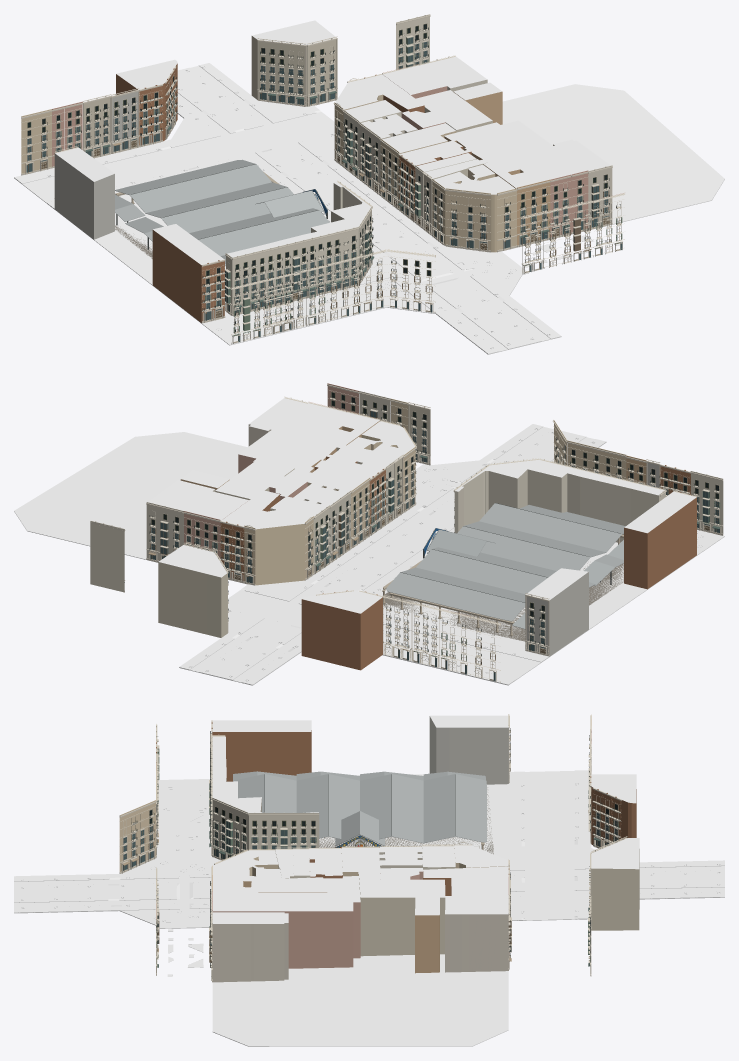
3 views of the same model, one above another, from view 1: azimuth 30°, elevation 25°; view 2: azimuth 150°, elevation 25°; view 3: azimuth 270°, elevation 25° (orthographic).
Visible parts, largest first — view 1: BCN_MB3_terreno, BCN_C02_viario_BCN-PG-01, BCN_C02_viario_BCN-PG-02, BCN_C06_viario_BCN-PG-02, BCNgen_L-MA3-001_fachada_01, BCN_C05_viario_BCN-PG-01, BCNgen_L-MA3-003_envolvente, MB4nuevo_L-MB4-001_-138.25_80.48, H10_Nave_4_faldon_1, BCNgen_L-MA3-002_envolvente, BCNgen_L-MB3-005_cubierta, H10_Nave_2_faldon_1 (+62 smaller); view 2: BCN_MB3_terreno, BCN_C02_viario_BCN-PG-02, BCNgen_L-MA3-001_envolvente, BCN_C06_viario_BCN-PG-02, BCN_C02_viario_BCN-PG-01, BCNgen_L-MA4-001_envolvente, BCNgen_L-MB4-001_envolvente, BCNgen_L-MA3-002_envolvente, H10_Nave_4_faldon_2, H10_Nave_1_faldon_2, BCNgen_L-MB3-019_envolvente, BCNgen_L-MB3-005_cubierta (+54 smaller); view 3: BCN_MB3_terreno, BCN_C06_viario_BCN-PG-02, BCN_C02_viario_BCN-PG-01, BCN_C05_viario_BCN-PG-01, BCN_C02_viario_BCN-PG-02, BCNgen_L-MB3-004_envolvente, BCNgen_L-MB3-005_envolvente, BCNgen_L-MA3-003_envolvente, BCNgen_L-MB3-020_envolvente, BCNgen_L-MA3-002_envolvente, BCNgen_L-MB3-014_envolvente, BCNgen_L-MB4-001_envolvente (+36 smaller).
Boxes of the visible parts, <box> form: BCN_MB3_terreno: <box>493,84,724,252</box>; BCN_C02_viario_BCN-PG-01: <box>324,199,561,354</box>; BCN_C02_viario_BCN-PG-02: <box>171,63,384,214</box>; BCN_C06_viario_BCN-PG-02: <box>14,101,334,208</box>; BCNgen_L-MA3-001_fachada_01: <box>232,227,358,315</box>; BCN_C05_viario_BCN-PG-01: <box>202,246,528,344</box>; BCNgen_L-MA3-003_envolvente: <box>55,153,114,239</box>; MB4nuevo_L-MB4-001_-138.25_80.48: <box>257,38,306,106</box>; H10_Nave_4_faldon_1: <box>130,164,271,213</box>; BCNgen_L-MA3-002_envolvente: <box>152,230,201,322</box>; BCNgen_L-MB3-005_cubierta: <box>478,120,586,179</box>; H10_Nave_2_faldon_1: <box>198,210,329,256</box>; BCN_MB3_terreno: <box>14,432,247,584</box>; BCN_C02_viario_BCN-PG-02: <box>179,545,420,684</box>; BCNgen_L-MA3-001_envolvente: <box>454,469,659,542</box>; BCN_C06_viario_BCN-PG-02: <box>228,584,549,684</box>; BCN_C02_viario_BCN-PG-01: <box>357,424,606,560</box>; BCNgen_L-MA4-001_envolvente: <box>301,597,382,670</box>; BCNgen_L-MB4-001_envolvente: <box>158,562,227,637</box>; BCNgen_L-MA3-002_envolvente: <box>624,497,696,589</box>; H10_Nave_4_faldon_2: <box>386,572,525,621</box>; H10_Nave_1_faldon_2: <box>479,503,621,552</box>; BCNgen_L-MB3-019_envolvente: <box>244,524,304,585</box>; BCNgen_L-MB3-005_cubierta: <box>238,403,345,463</box>; BCN_MB3_terreno: <box>212,954,508,1046</box>; BCN_C06_viario_BCN-PG-02: <box>508,770,591,920</box>; BCN_C02_viario_BCN-PG-01: <box>14,857,221,912</box>; BCN_C05_viario_BCN-PG-01: <box>120,779,212,928</box>; BCN_C02_viario_BCN-PG-02: <box>496,848,724,901</box>; BCNgen_L-MB3-004_envolvente: <box>212,923,288,982</box>; BCNgen_L-MB3-005_envolvente: <box>212,902,360,968</box>; BCNgen_L-MA3-003_envolvente: <box>429,716,508,784</box>; BCNgen_L-MB3-020_envolvente: <box>445,914,508,972</box>; BCNgen_L-MA3-002_envolvente: <box>212,730,311,781</box>; BCNgen_L-MB3-014_envolvente: <box>359,882,445,956</box>; BCNgen_L-MB4-001_envolvente: <box>591,849,639,930</box>.
Bounding box in the file's own units: 233 × 30.79 × 258.
204 materials, 1 textured.
